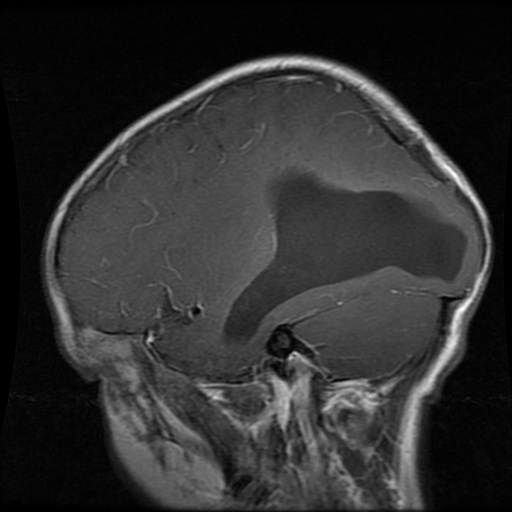glioma: (221, 165, 467, 342)
